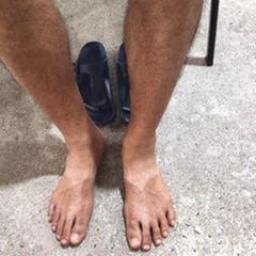Dorsal View -Both Feet-: (36, 112, 187, 253)
